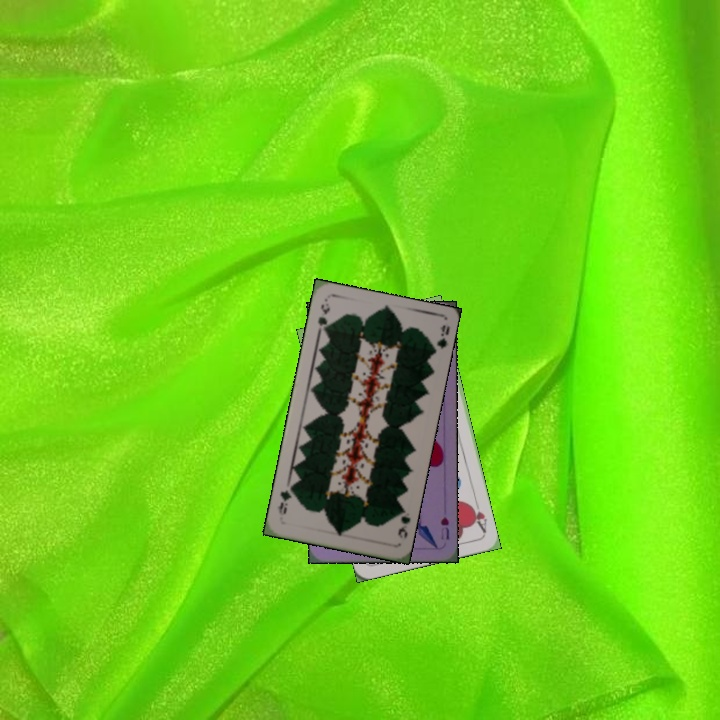G9: (394, 504, 413, 541), (314, 299, 332, 335)
HA: (466, 500, 490, 536)
HU: (437, 513, 452, 542)
